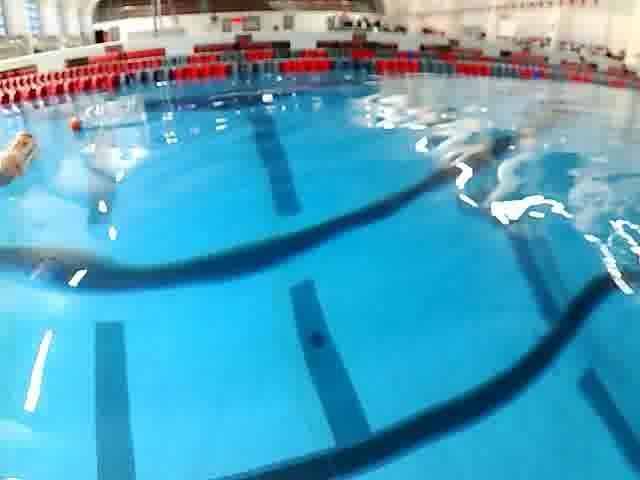Bottle: (63, 92, 150, 136), (0, 125, 45, 191)
